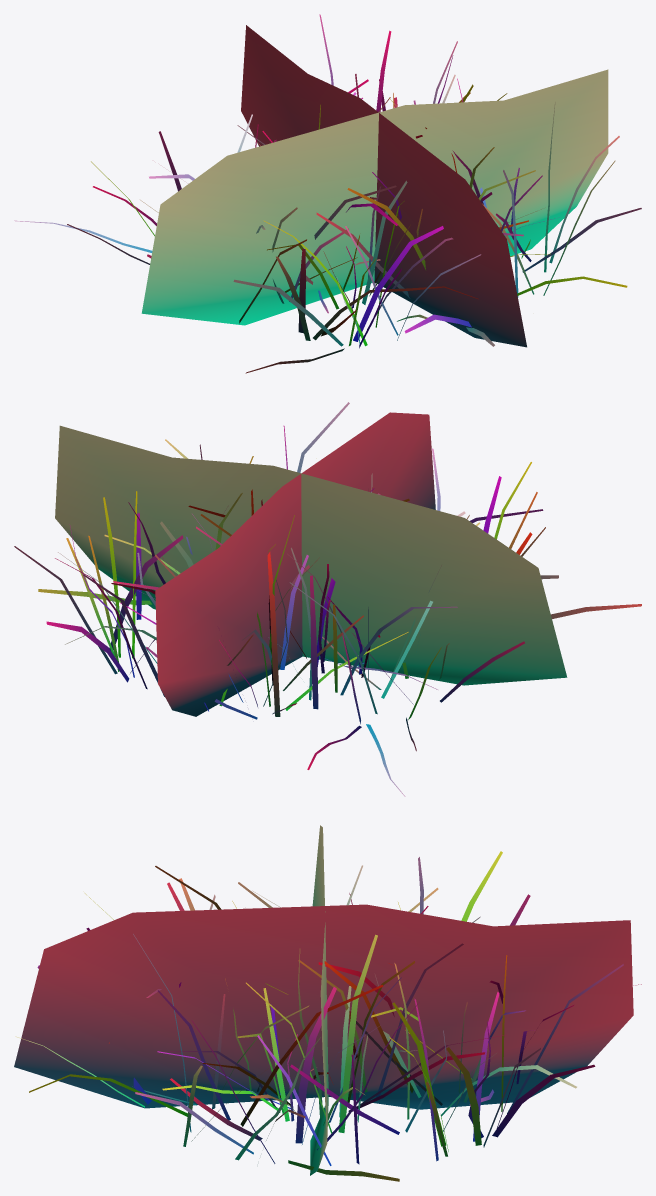
File: Wild_Grass_vlkhcbxia_High_vlkhcbxia_VarC_LOD2.fbx
3 views of the same model, one above another, from view 1: azimuth 30°, elevation 25°; view 2: azimuth 150°, elevation 25°; view 3: azimuth 270°, elevation 25° (orthographic). The views are drawn at different scales.
Parts seen in each view (by area): view 1: _vpqz_VarC_LOD3; view 2: _vpqz_VarC_LOD3; view 3: _vpqz_VarC_LOD3.
Part boxes in pixels (x1,y1,x2,y2): _vpqz_VarC_LOD3: [14, 14, 641, 373]; _vpqz_VarC_LOD3: [14, 402, 641, 796]; _vpqz_VarC_LOD3: [14, 825, 641, 1181].
Bounding box in the file's own units: 44.62 × 15.73 × 45.06.
